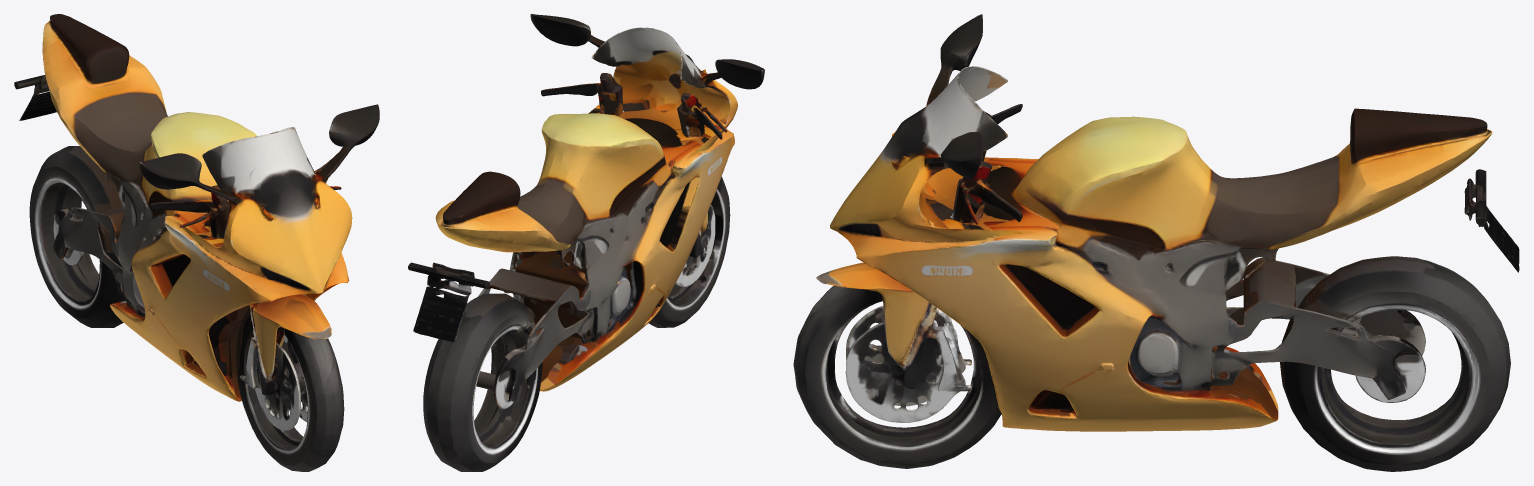
The model's file is port.glb.
3 views of the same model, side by side, from view 1: azimuth 30°, elevation 25°; view 2: azimuth 150°, elevation 25°; view 3: azimuth 270°, elevation 25° (orthographic). The views are drawn at different scales.
Visible parts, largest first — view 1: Object_2, Object_3; view 2: Object_2; view 3: Object_2, Object_3.
Part boxes in pixels (x1,y1,x2,y2): Object_2: [14, 14, 379, 471]; Object_3: [60, 79, 302, 430]; Object_2: [408, 14, 764, 471]; Object_2: [793, 14, 1519, 471]; Object_3: [870, 66, 1425, 401].
Bounding box in the file's own units: 0.8874 × 1.13 × 1.9.
1 material, 1 textured.
